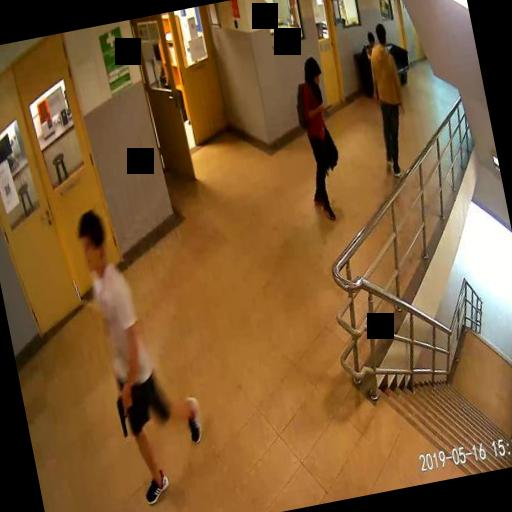Handgun: (114, 391, 134, 437)
